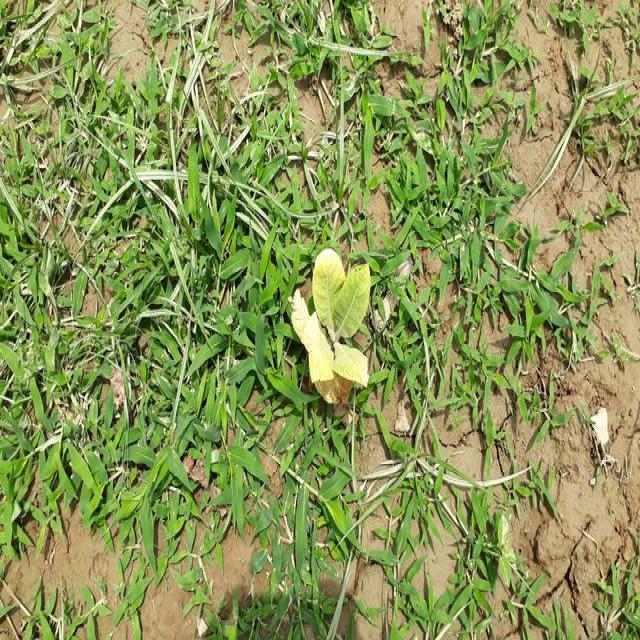crop: (282, 226, 388, 405)
